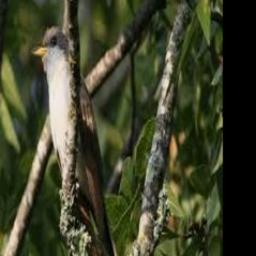Cuckoo: (31, 27, 123, 256)
